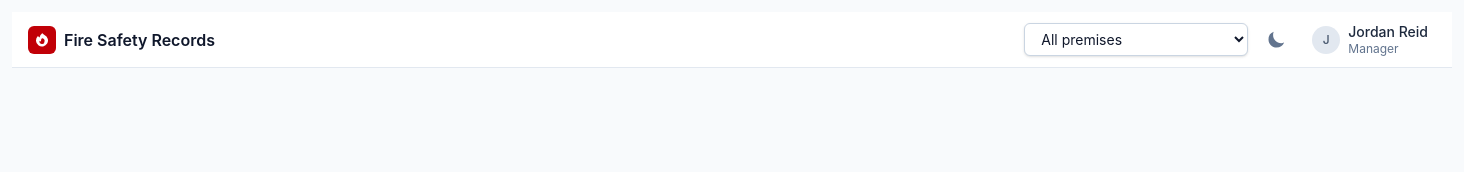
Scenario: Topbar › navigates to the account page to change password
Click the text "Jordan Reid": (1388, 32) [1348,23,1428,41]
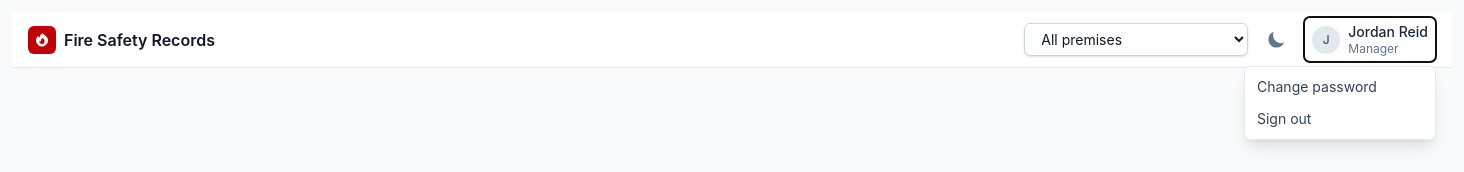
Click the button "Change password": (1340, 87) [1245,71,1435,103]
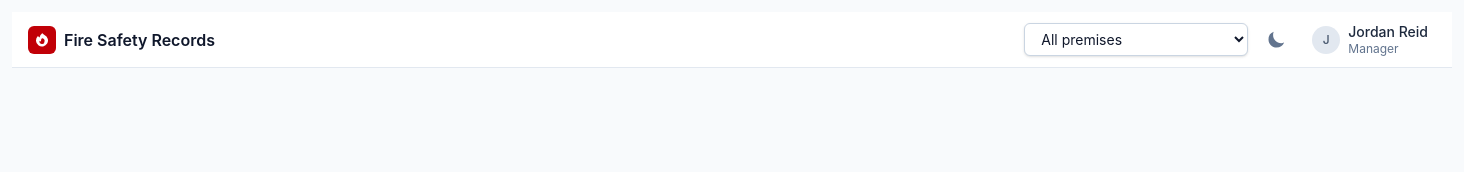
Expected: the button "Sign out" is gone
